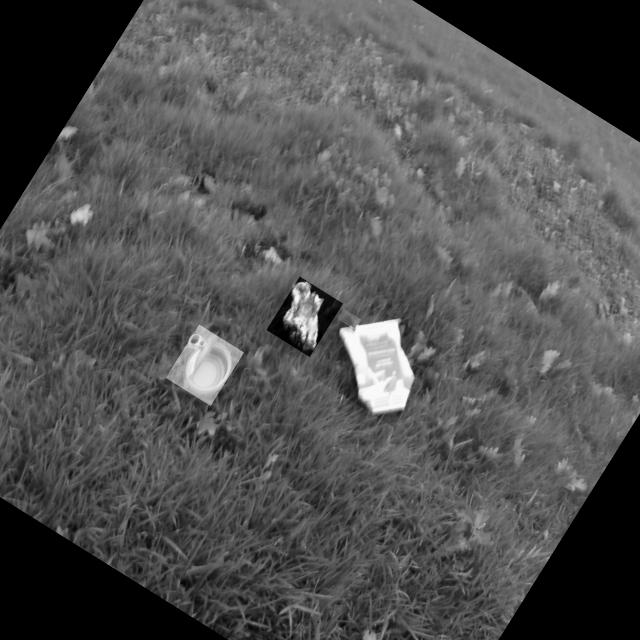Aluminium foil: (281, 281, 323, 352)
Food Carton: (338, 320, 414, 414)
Other can: (181, 334, 231, 398)
Pop tab: (188, 334, 205, 347)
Straw: (340, 309, 355, 330)
